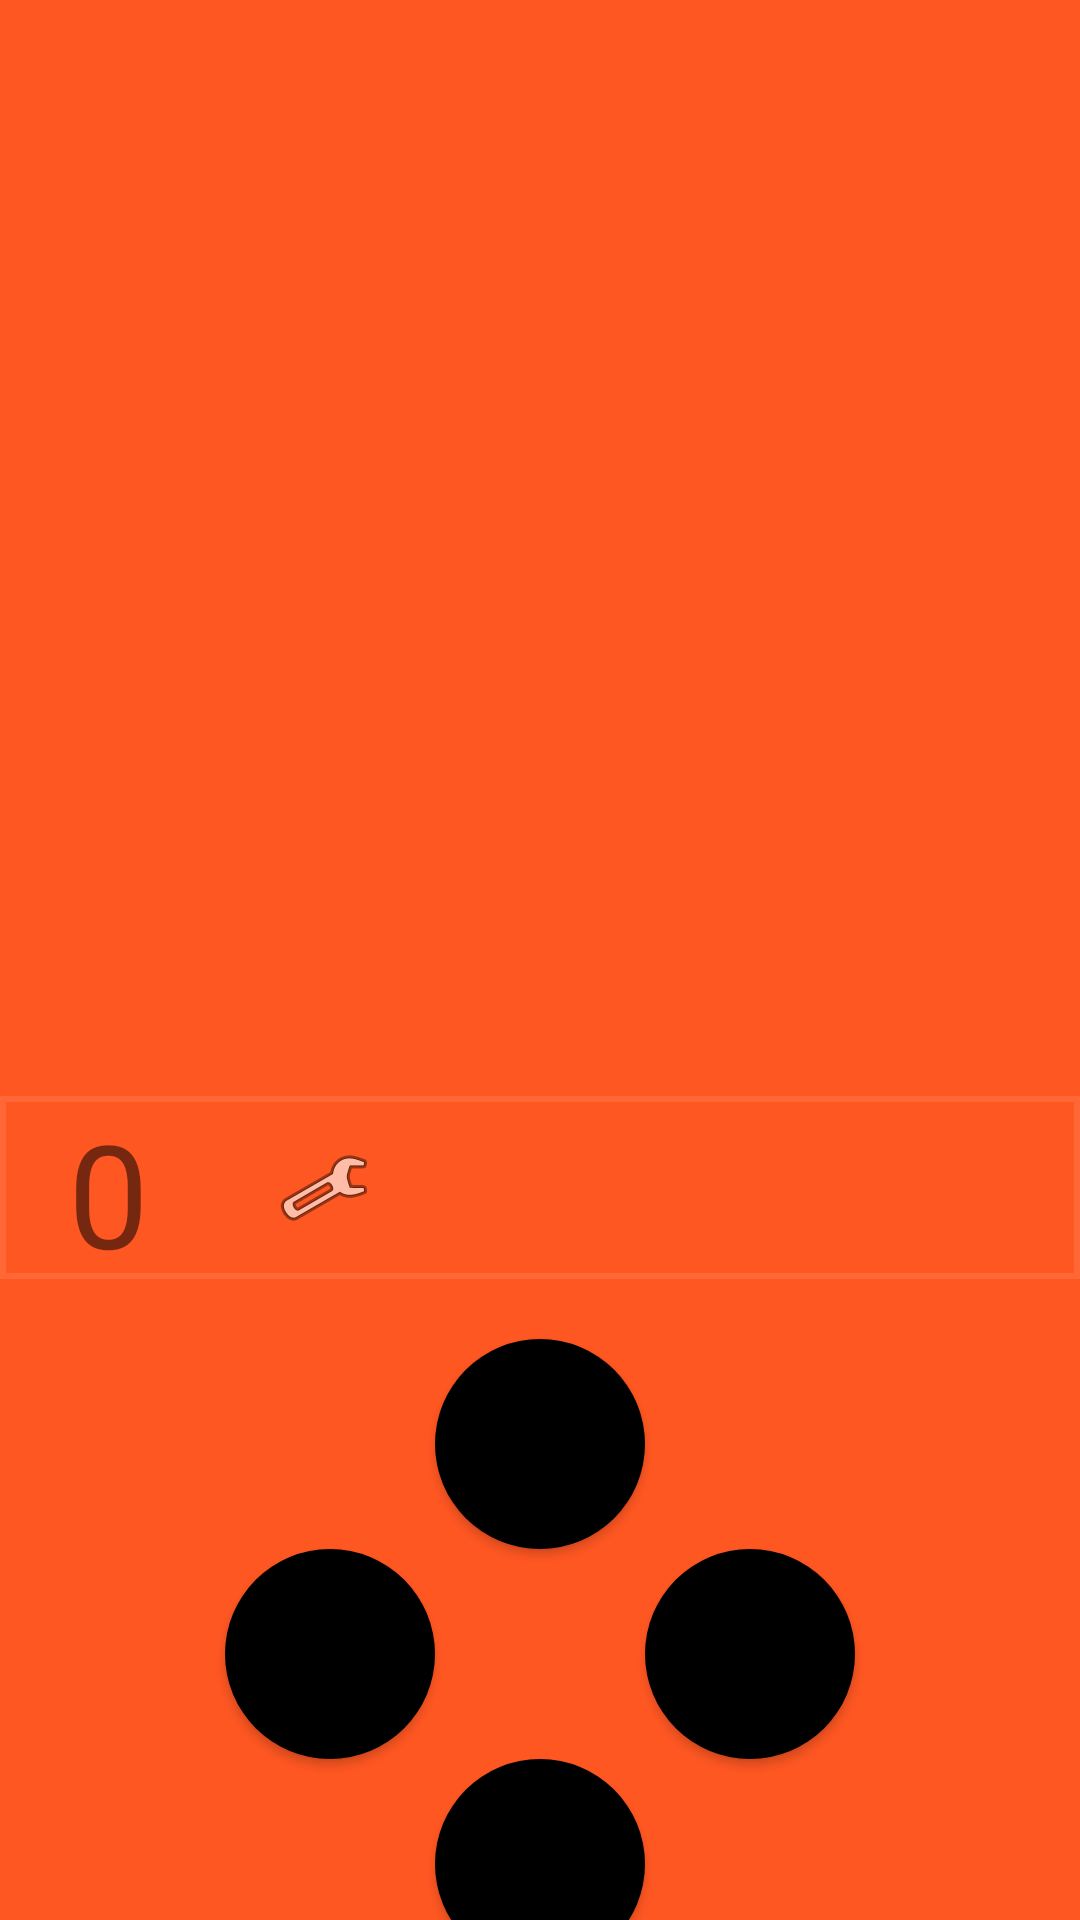

Screen size 1080px x 1920px. Icon name, then its box in pixels as (x1, y1, x2, y2):
preferences: (281, 1155, 367, 1221)
